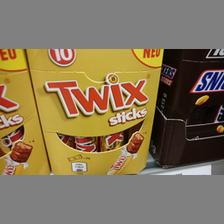Schokolade: (32, 69, 158, 174), (162, 48, 222, 168)
